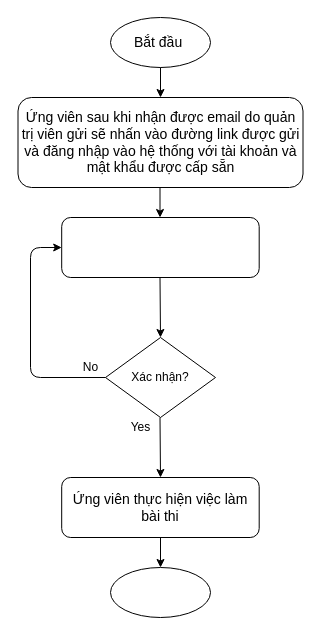
The diagram is 320 pixels wide and 635 high, and some of its shapes have lost their labels. The centre of each missing label's shape, as x and y in pixels:
Kết thúc: [160,592]
Ứng viên sẽ kiểm tra lại thông tin cá nhân của mình: [160,247]
